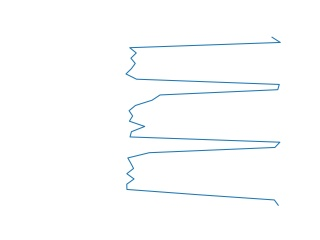majorRiverChannelBar: (120, 36, 285, 207)
